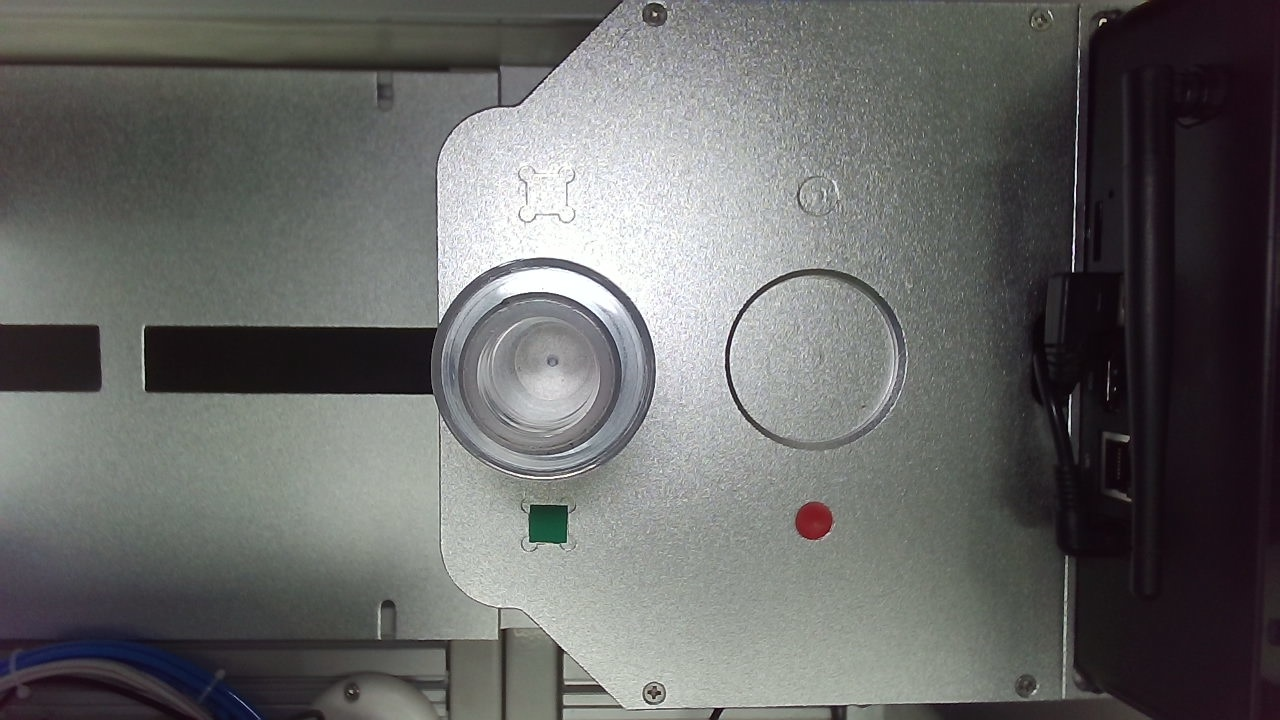XLabel: (501, 258, 534, 290)
YLabel: (277, 251, 312, 284)
none: (436, 327, 596, 489)
transparenexcept: (38, 293, 367, 510)
